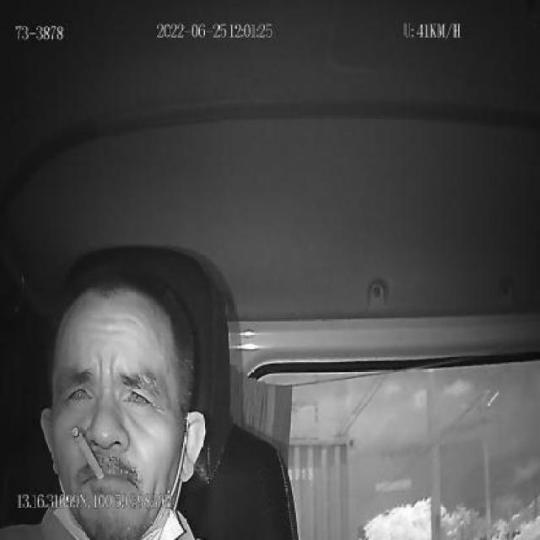smoking: (72, 426, 105, 484)
